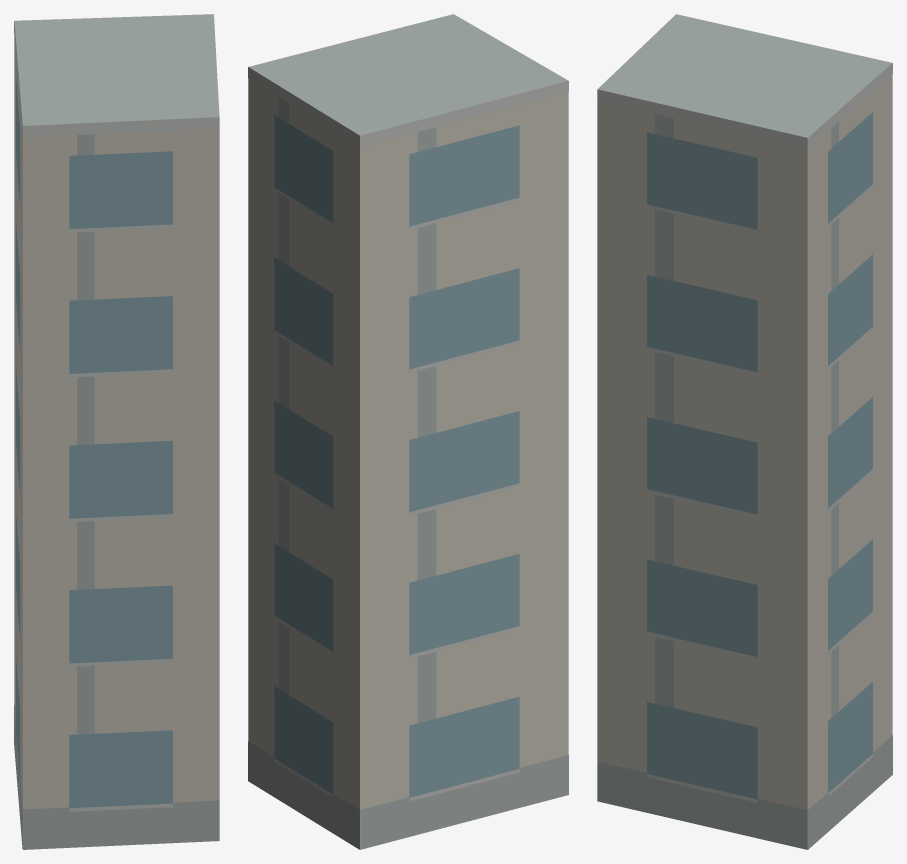
File: survey-upis-32820201.glb
3 renders of one model, left to right at view 1: azimuth 30°, elevation 25°; view 2: azimuth 150°, elevation 25°; view 3: azimuth 270°, elevation 25°, orthographic.
Parts seen in each view (by area): view 1: survey-upis-32820201.tmp; view 2: survey-upis-32820201.tmp; view 3: survey-upis-32820201.tmp.
Part boxes in pixels (x1,y1,x2,y2): survey-upis-32820201.tmp: (14, 14, 219, 849); survey-upis-32820201.tmp: (248, 14, 568, 849); survey-upis-32820201.tmp: (597, 14, 892, 849).
Bounding box in the file's own units: 5.7 × 15.25 × 5.74.
